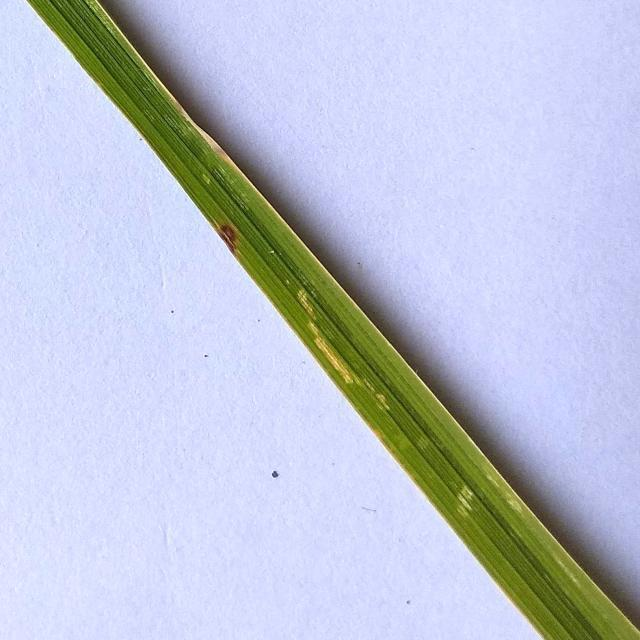Blast: (219, 224, 246, 248)
